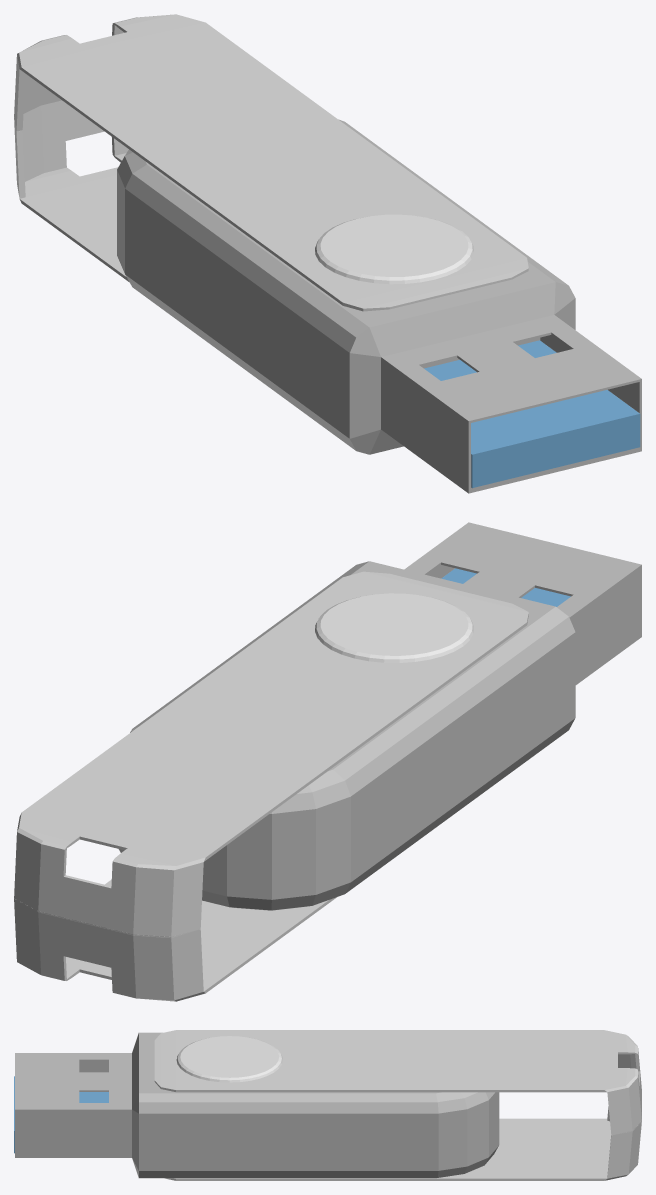
Rendered from flashdrive_1781723006721_model.glb.
The picture shows the model from 3 angles, top to bottom: view 1: azimuth 30°, elevation 25°; view 2: azimuth 150°, elevation 25°; view 3: azimuth 270°, elevation 25°; orthographic projection. The views are drawn at different scales.
Visible parts, largest first — view 1: Cube, Flash Drive Model, Cube.001, Cylinder; view 2: Cube, Flash Drive Model, Cylinder, Cube.001; view 3: Flash Drive Model, Cube, Cylinder, Cube.001.
Boxes of the visible parts, <box> form: Cube: <box>14,14,528,311</box>; Flash Drive Model: <box>117,119,641,493</box>; Cube.001: <box>424,340,640,488</box>; Cylinder: <box>315,214,473,284</box>; Cube: <box>14,571,528,1001</box>; Flash Drive Model: <box>118,522,641,910</box>; Cylinder: <box>315,593,473,662</box>; Cube.001: <box>441,568,570,606</box>; Flash Drive Model: <box>15,1032,499,1178</box>; Cube: <box>154,1030,641,1180</box>; Cylinder: <box>176,1036,282,1082</box>; Cube.001: <box>14,1076,108,1153</box>.
Bounding box in the file's own units: 2 × 1.23 × 7.22.
